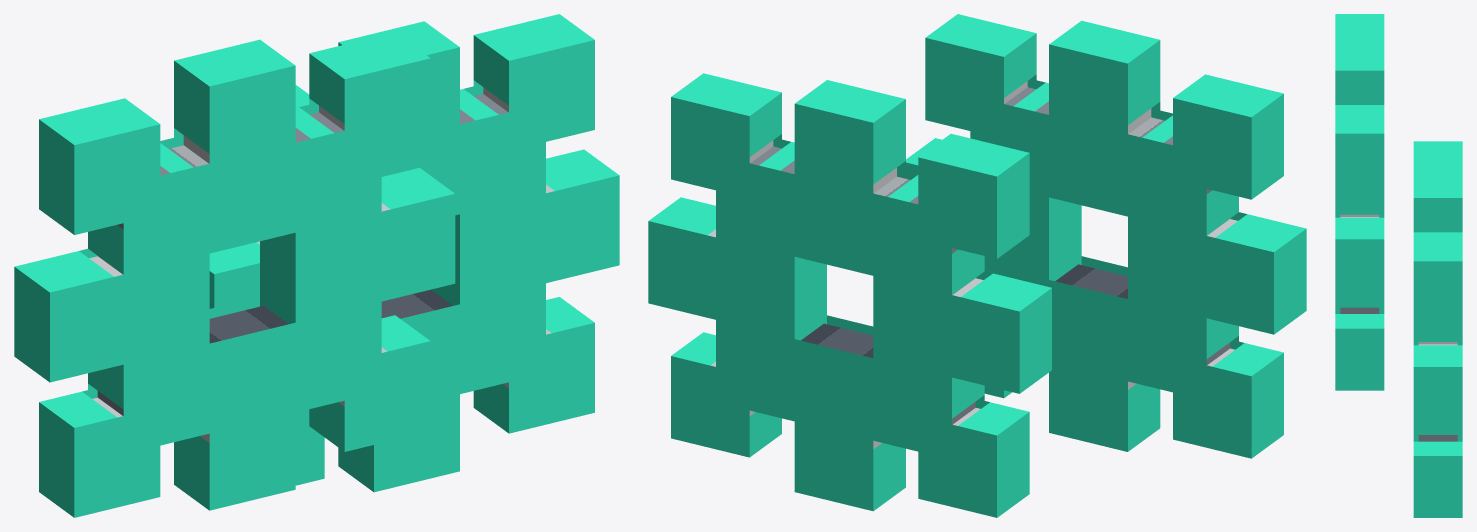
Rendered from Scrap 3 Outline.fbx.
The picture shows the model from 3 angles, left to right: view 1: azimuth 30°, elevation 25°; view 2: azimuth 150°, elevation 25°; view 3: azimuth 270°, elevation 25°; orthographic projection. The views are drawn at different scales.
Visible parts, largest first — view 1: Outline, Outline_14, Outline_15, Outline_19, Outline_13, Outline_24, Outline_18, Outline_23, Outline_17, Outline_16, Outline_21, Outline_20 (+4 smaller); view 2: Outline, Outline_15, Outline_14, Outline_19, Outline_18, Outline_24, Outline_13, Outline_23, Outline_22, Outline_16, Outline_17, GearBottom (+3 smaller); view 3: Outline, Outline_13, Outline_20, Outline_21, Outline_24, Outline_19, Outline_15, Outline_14, GearBottom, GearBottom_1.
Boxes of the visible parts, x1,y1,x2,y2 form: Outline: (209,14,619,492); Outline_14: (88,297,381,454); Outline_15: (88,104,381,274); Outline_19: (39,98,160,234); Outline_13: (309,32,430,168); Outline_24: (174,39,295,175); Outline_18: (14,248,135,382); Outline_23: (39,389,160,517); Outline_17: (260,199,381,334); Outline_16: (88,241,209,376); Outline_21: (309,315,430,451); Outline_20: (369,167,455,304); Outline: (648,73,1051,517); Outline_15: (970,79,1238,235); Outline_14: (984,256,1238,400); Outline_19: (1173,74,1283,199); Outline_18: (1195,212,1306,334); Outline_24: (1049,20,1160,145); Outline_13: (925,14,1036,139); Outline_23: (1173,341,1283,458); Outline_22: (1049,351,1160,451); Outline_16: (1128,205,1238,327); Outline_17: (984,181,1081,286); GearBottom: (801,323,975,424); Outline: (1413,141,1462,517); Outline_13: (1335,105,1384,195); Outline_20: (1335,217,1384,301); Outline_21: (1335,314,1384,390); Outline_24: (1335,41,1384,104); Outline_19: (1335,14,1384,41); Outline_15: (1335,195,1384,214); Outline_14: (1335,301,1384,307); GearBottom: (1418,435,1457,441); GearBottom_1: (1340,307,1379,313).
Size of the model in its own units: 159 by 122 by 40.62.
